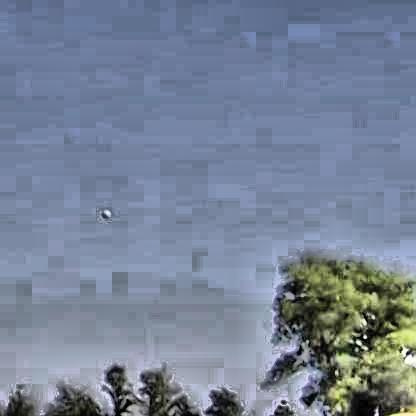golfball: (98, 207, 108, 218)
